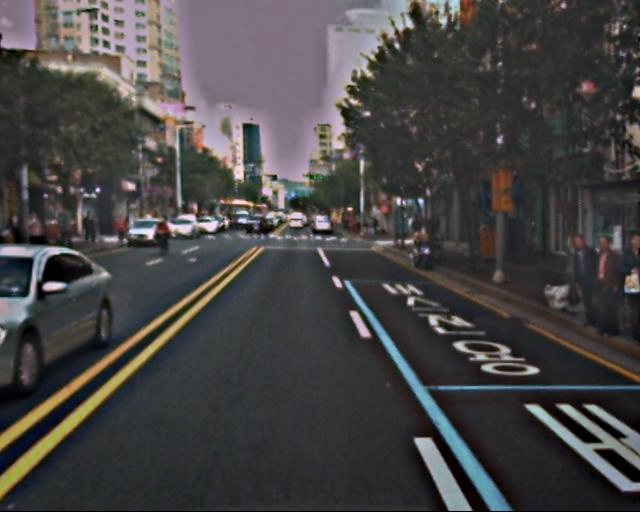person: (563, 231, 639, 345)
